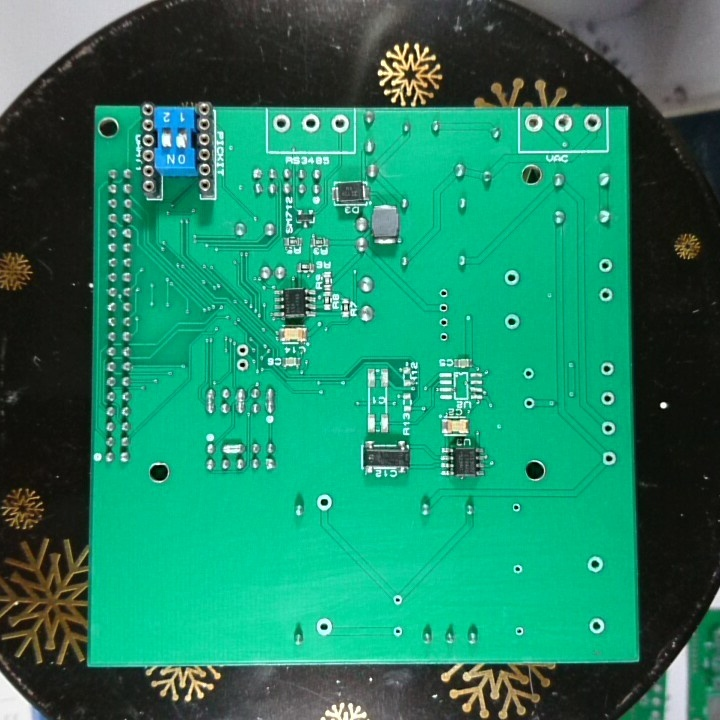F: (580, 111, 604, 136), (329, 112, 353, 136), (271, 111, 294, 136), (522, 112, 546, 135), (300, 111, 321, 135), (314, 615, 336, 637), (314, 492, 337, 513), (553, 112, 574, 134), (585, 554, 606, 574), (502, 312, 522, 332), (502, 267, 522, 287), (586, 615, 607, 634), (595, 286, 617, 304), (599, 418, 618, 438), (598, 360, 617, 379), (601, 449, 619, 469), (599, 389, 617, 408), (597, 257, 615, 275), (520, 364, 537, 383), (234, 341, 252, 358), (434, 315, 454, 330), (234, 356, 251, 373), (434, 329, 452, 345), (434, 299, 452, 315), (390, 592, 405, 608), (508, 500, 524, 515), (521, 396, 537, 411), (435, 286, 452, 300), (512, 623, 527, 638), (391, 623, 405, 639), (511, 562, 525, 578)
P: (219, 441, 248, 455), (203, 386, 216, 416), (234, 386, 247, 415), (264, 385, 277, 413)
